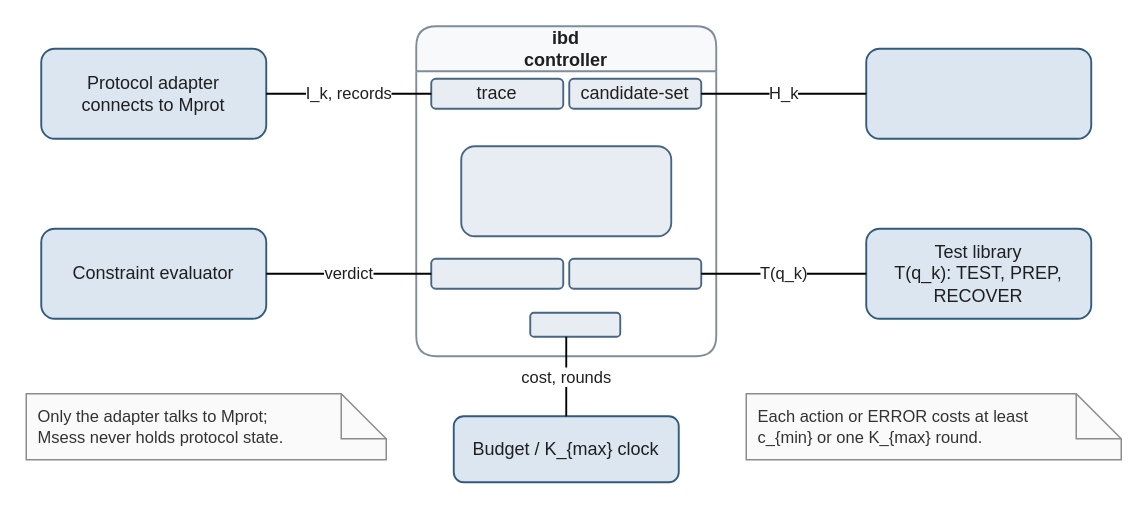
Image size: 1148x510. Some labels were removed from this diagram. The shapes that lost their labels are listed below. From the top down, each one's centre as x and y in pixels, then its label:
At [978,93]: "Candidate store H_k".
At [566,191]: "Msess holds H, q, journal".
At [497,273]: "constraint".
At [635,273]: "test-selection".
At [575,324]: "budget".
